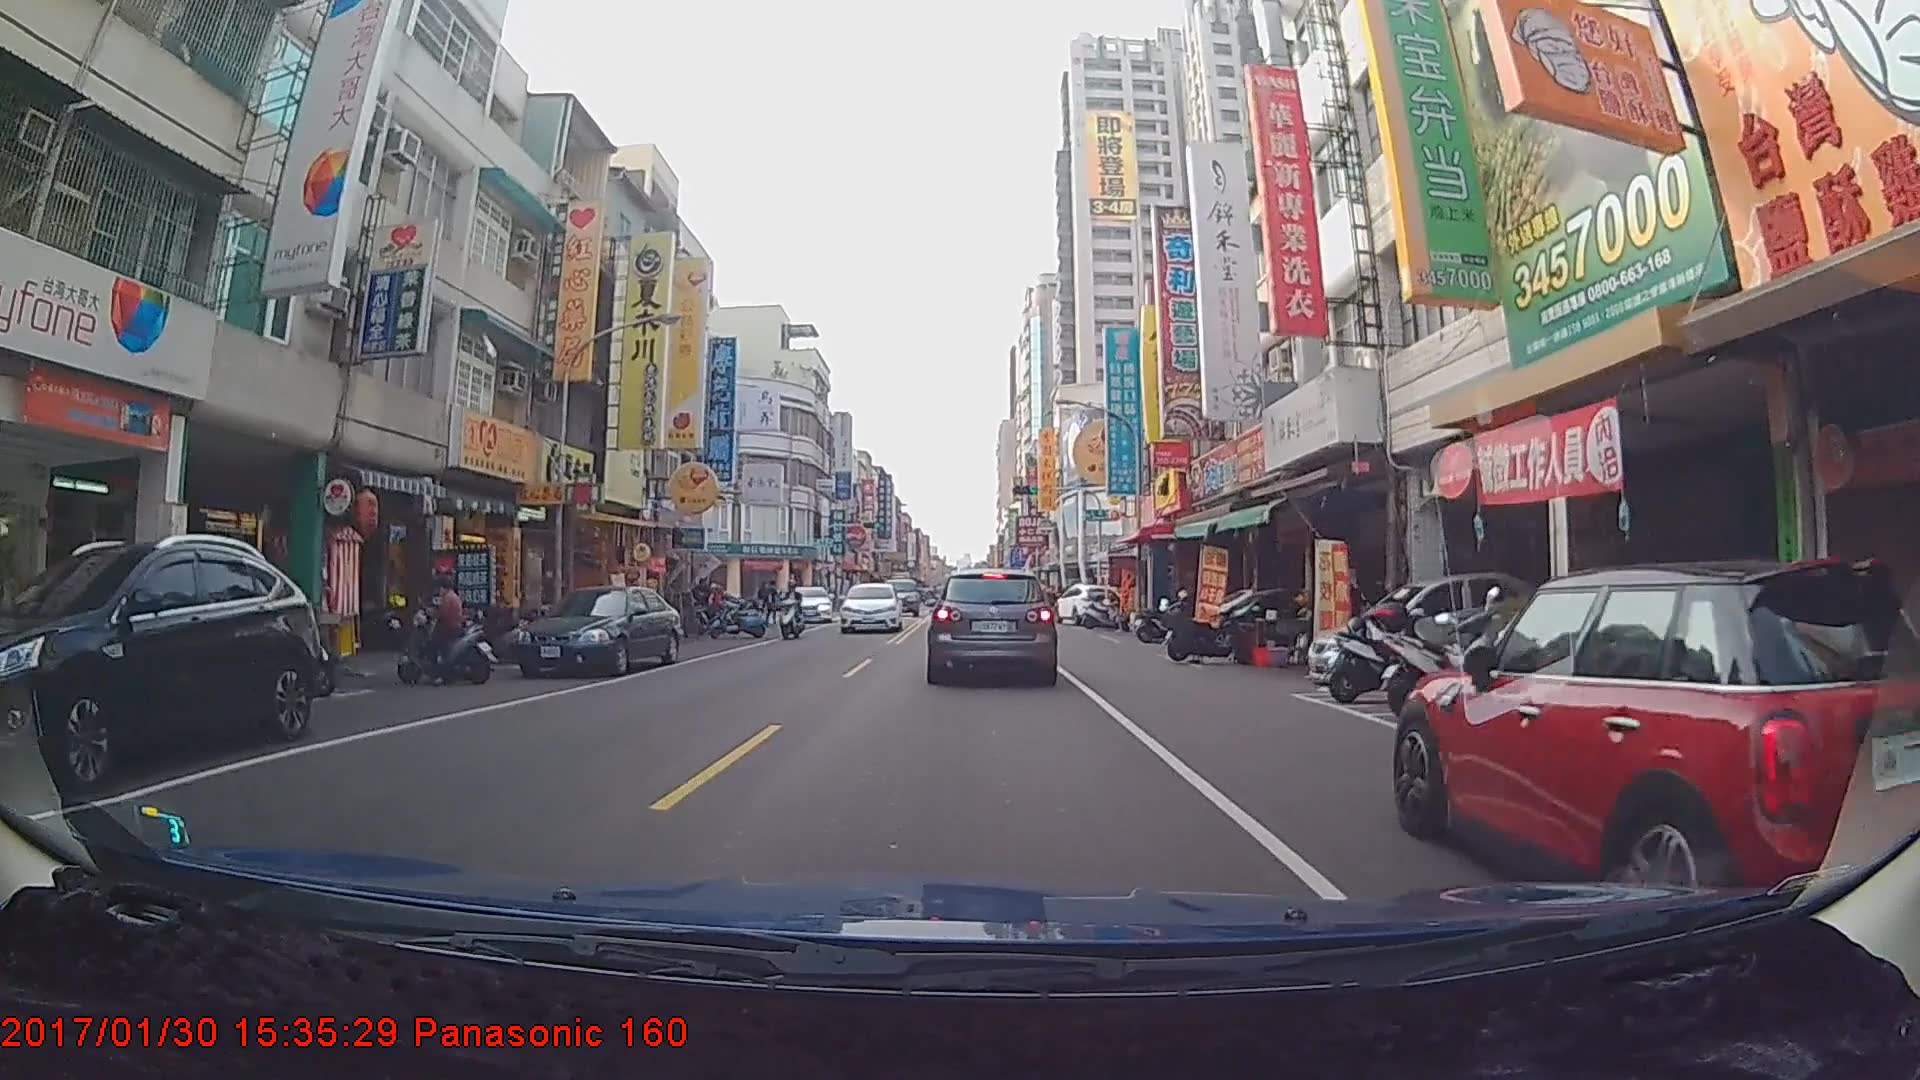rider: (391, 571, 508, 692), (776, 584, 805, 641)
vehicle: (1395, 560, 1920, 930), (0, 539, 314, 787), (929, 564, 1056, 682), (512, 588, 685, 674), (839, 582, 900, 634), (1054, 581, 1123, 627), (783, 581, 831, 620), (877, 577, 919, 616)
